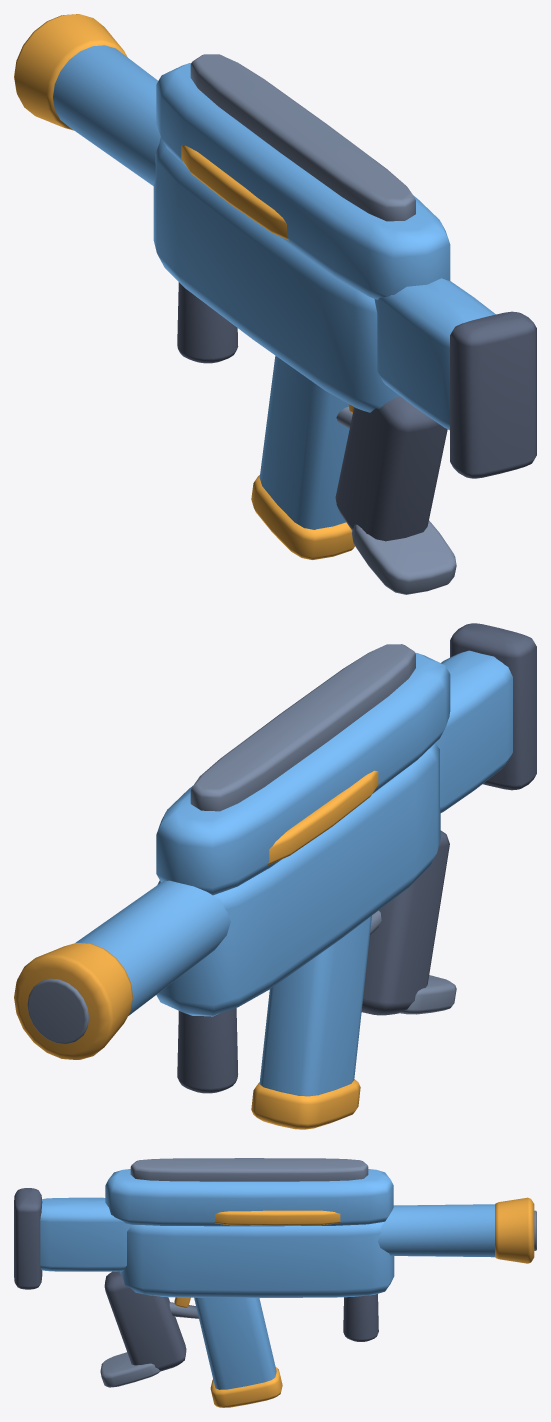
Rendered from storm.glb.
3 views of the same model, one above another, from view 1: azimuth 30°, elevation 25°; view 2: azimuth 150°, elevation 25°; view 3: azimuth 270°, elevation 25° (orthographic). The views are drawn at different scales.
Visible parts, largest first — view 1: Mesh_Chassis_Body, Magazine; view 2: Mesh_Chassis_Body, Magazine; view 3: Mesh_Chassis_Body, Magazine.
Part boxes in pixels (x1,y1,x2,y2): Mesh_Chassis_Body: [14, 14, 536, 594]; Magazine: [251, 355, 354, 559]; Mesh_Chassis_Body: [14, 623, 536, 1093]; Magazine: [251, 916, 371, 1129]; Mesh_Chassis_Body: [14, 1158, 536, 1387]; Magazine: [194, 1297, 282, 1407].
Bounding box in the file's own units: 0.095 × 0.3552 × 0.7038.
